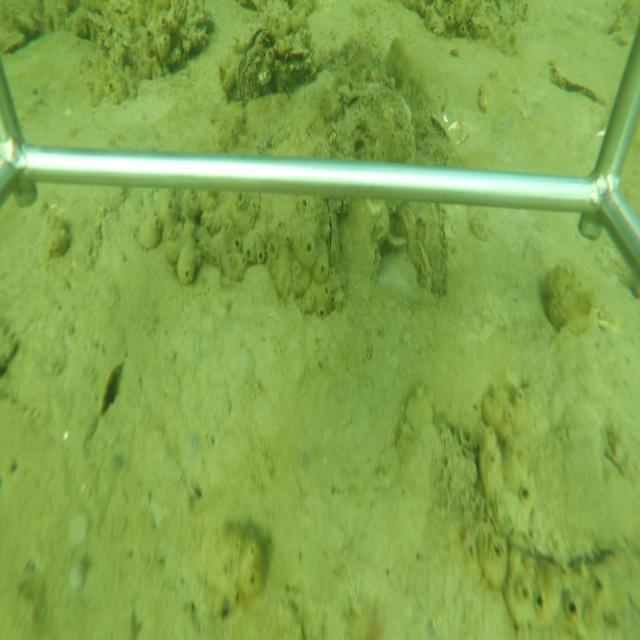Oyster-Closed: (315, 200, 340, 272)
Oyster-Open: (235, 27, 274, 106)
